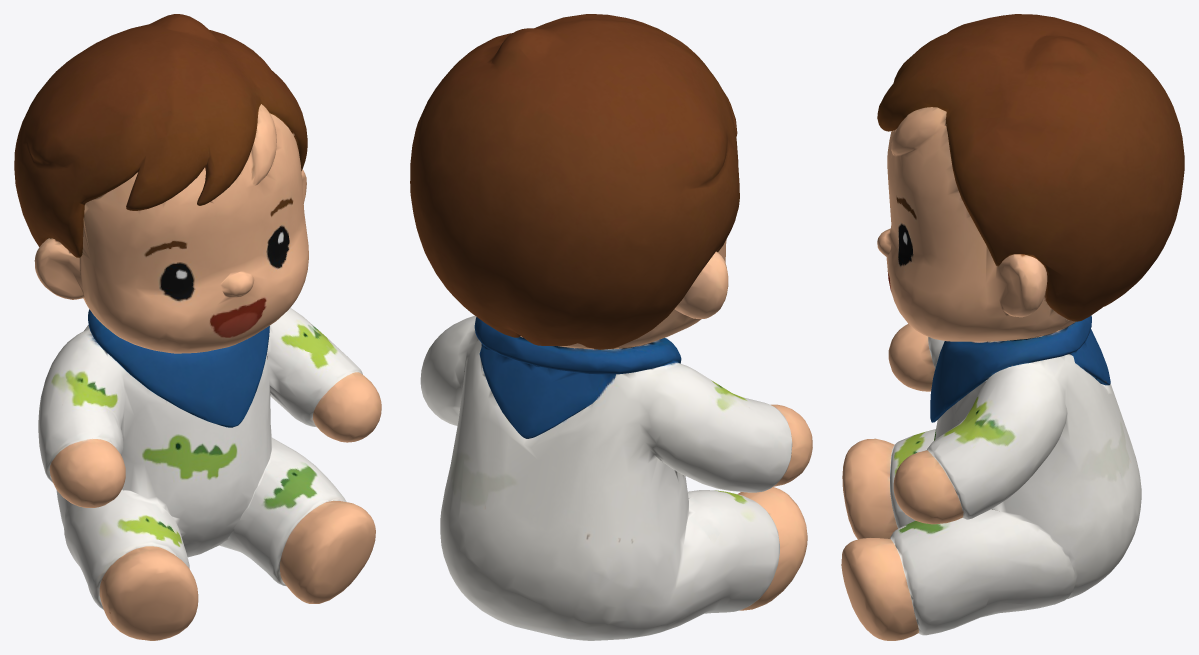
File: nil.glb
3 renders of one model, left to right at view 1: azimuth 30°, elevation 25°; view 2: azimuth 150°, elevation 25°; view 3: azimuth 270°, elevation 25°, orthographic. The views are drawn at different scales.
Parts seen in each view (by area): view 1: Malla; view 2: Malla; view 3: Malla.
Part boxes in pixels (left/top/right/bottom): Malla: left=14, top=14, right=381, bottom=640; Malla: left=410, top=14, right=812, bottom=640; Malla: left=841, top=14, right=1184, bottom=640.
Size of the model in its own units: 0.2021 by 0.3231 by 0.1775.
Materials: 1 (1 with a texture image).
